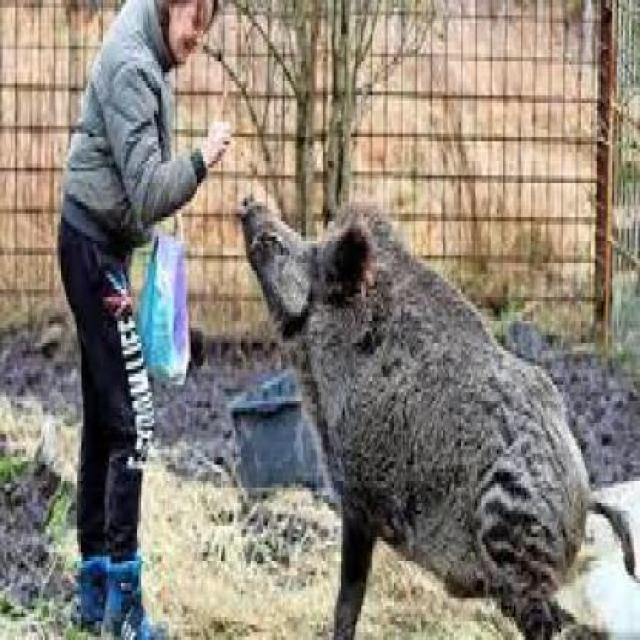wildboar: (233, 178, 638, 640)
